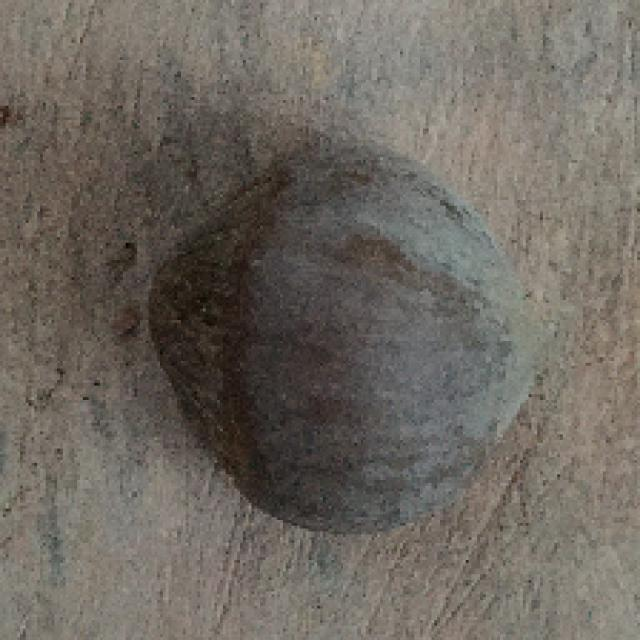damagedHazelnut: (137, 135, 548, 540)
